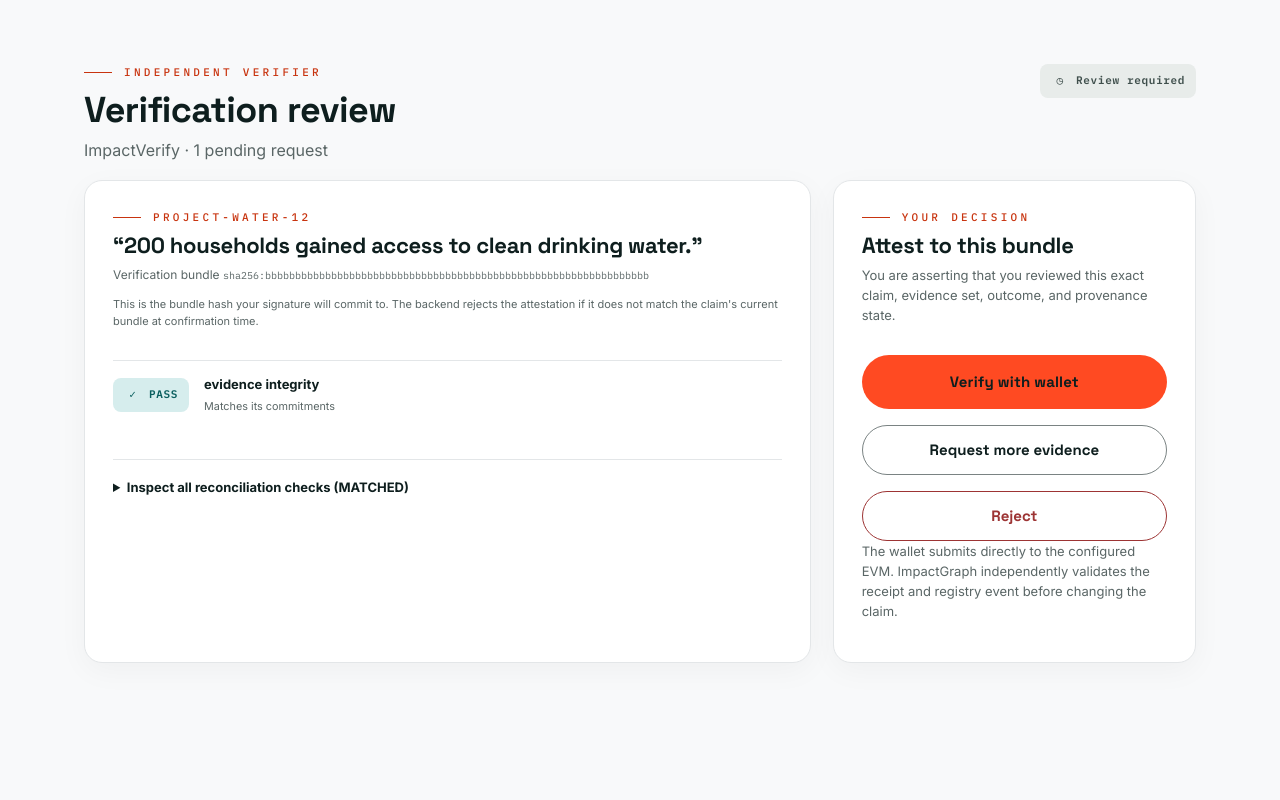
it: Verifier wallet workflow › records a verifier rejection without creating a wallet attestation
Step 1. Click the button "Reject" → (1014, 516), box [862,491,1167,541]
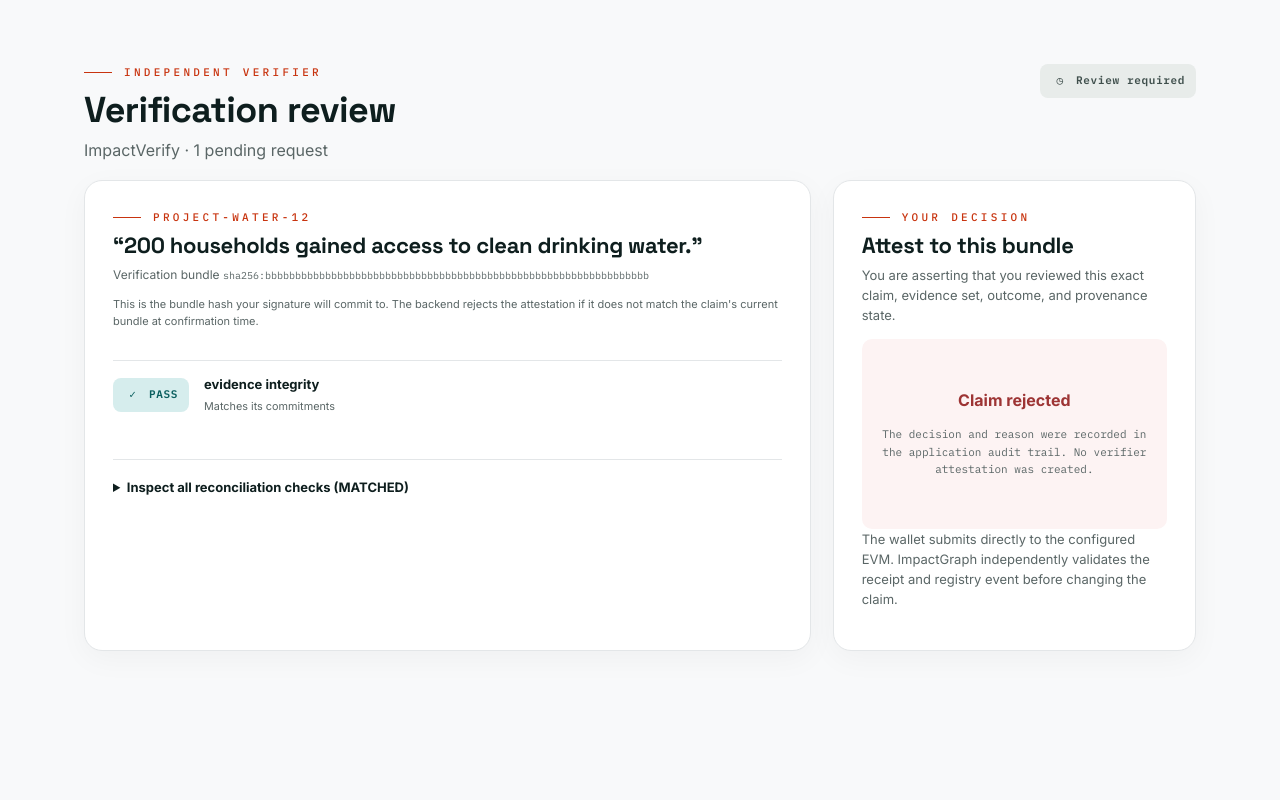
Result: the text "Claim rejected" is shown at [958,388,1071,414]
